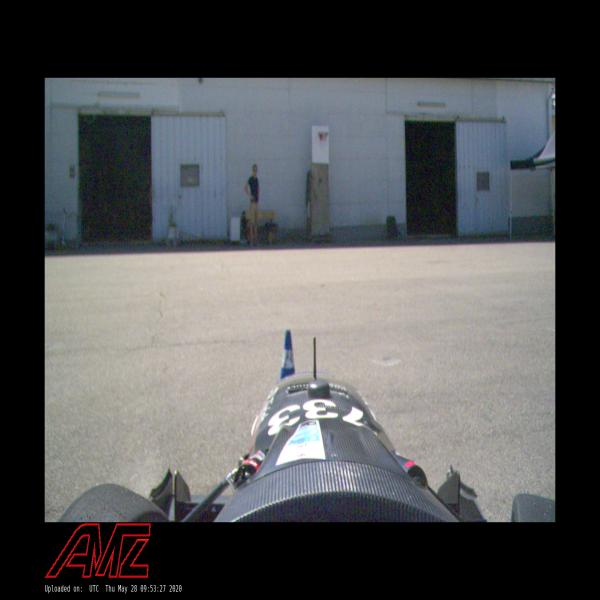blue_cone: (276, 330, 296, 386)
